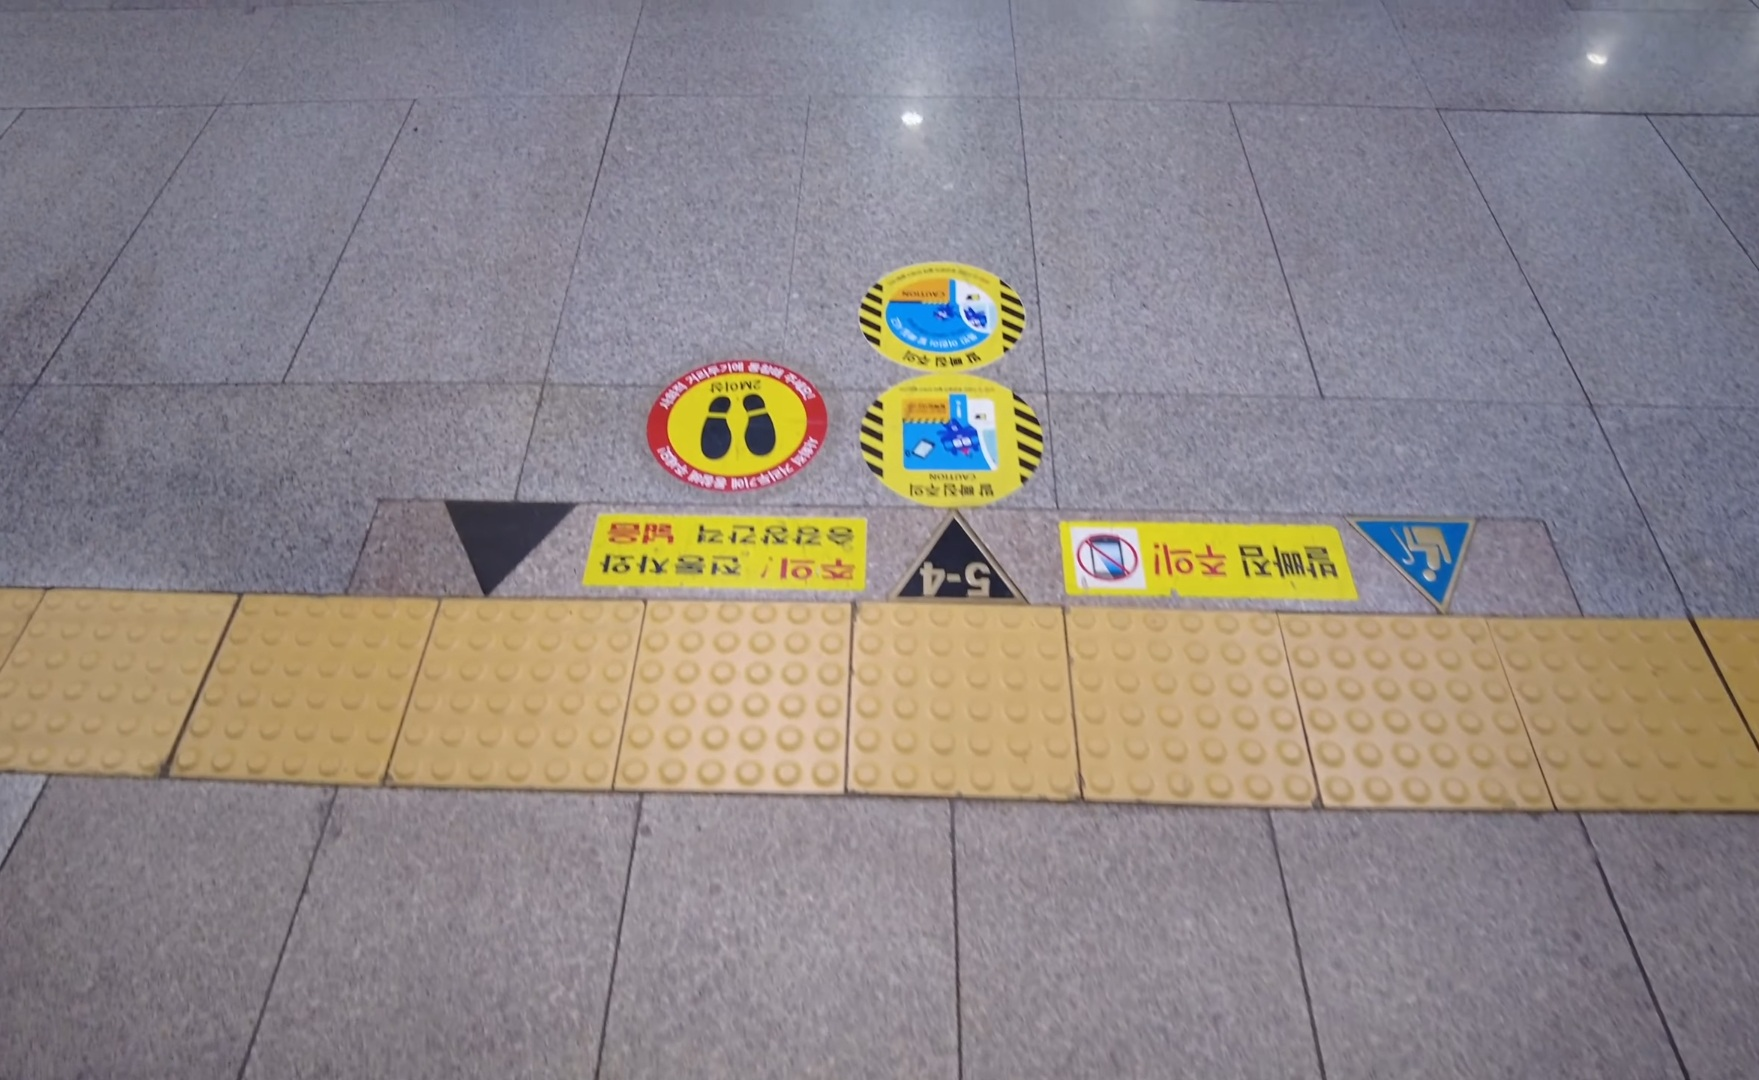warningBlock: (1488, 612, 1759, 806), (1293, 612, 1539, 807), (1063, 615, 1295, 811), (858, 602, 1082, 792), (415, 602, 637, 781), (647, 602, 849, 795), (201, 602, 410, 776), (18, 566, 182, 765)
